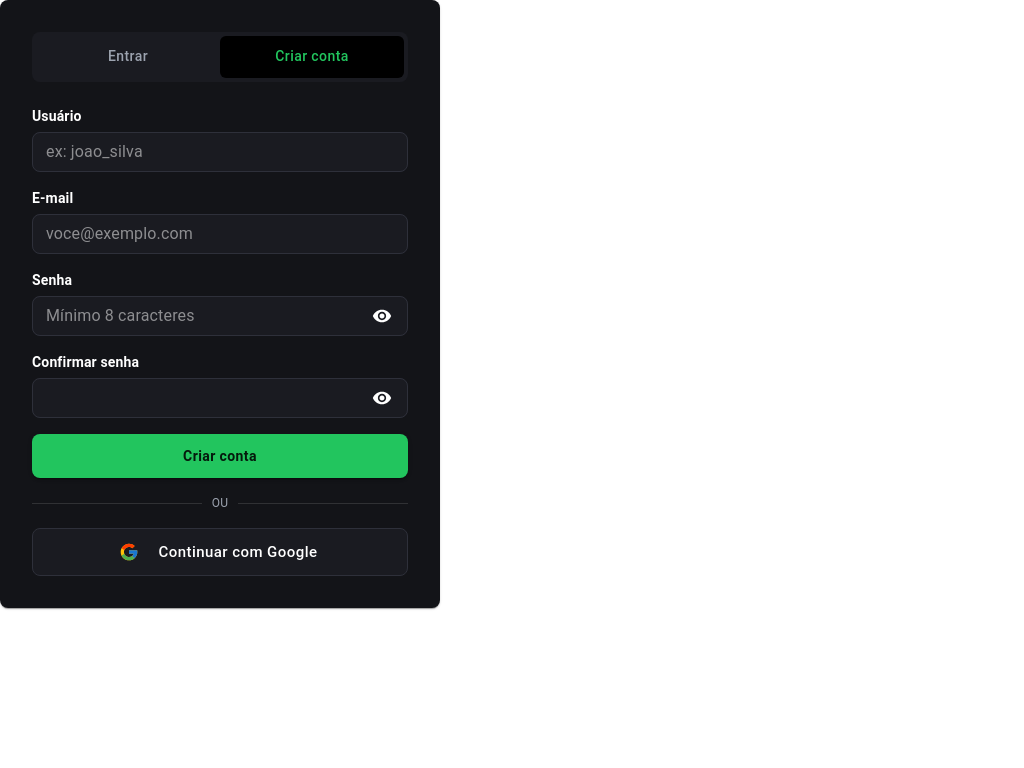
Scenario: shows error modal after failed signup
Type "joao_silva" into the field with placeholder "ex: joao_silva" at (220, 152), box [32,132,408,172]
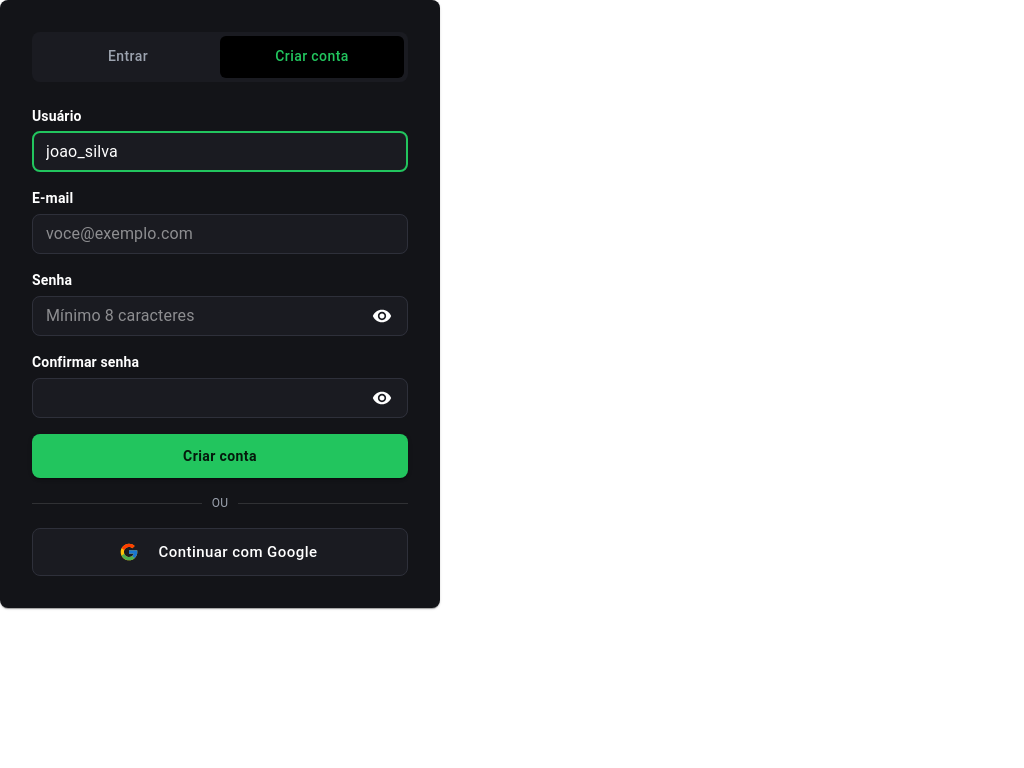
Type "joao@test.com" into the field with placeholder "voce@exemplo.com" at (220, 234), box [32,214,408,254]
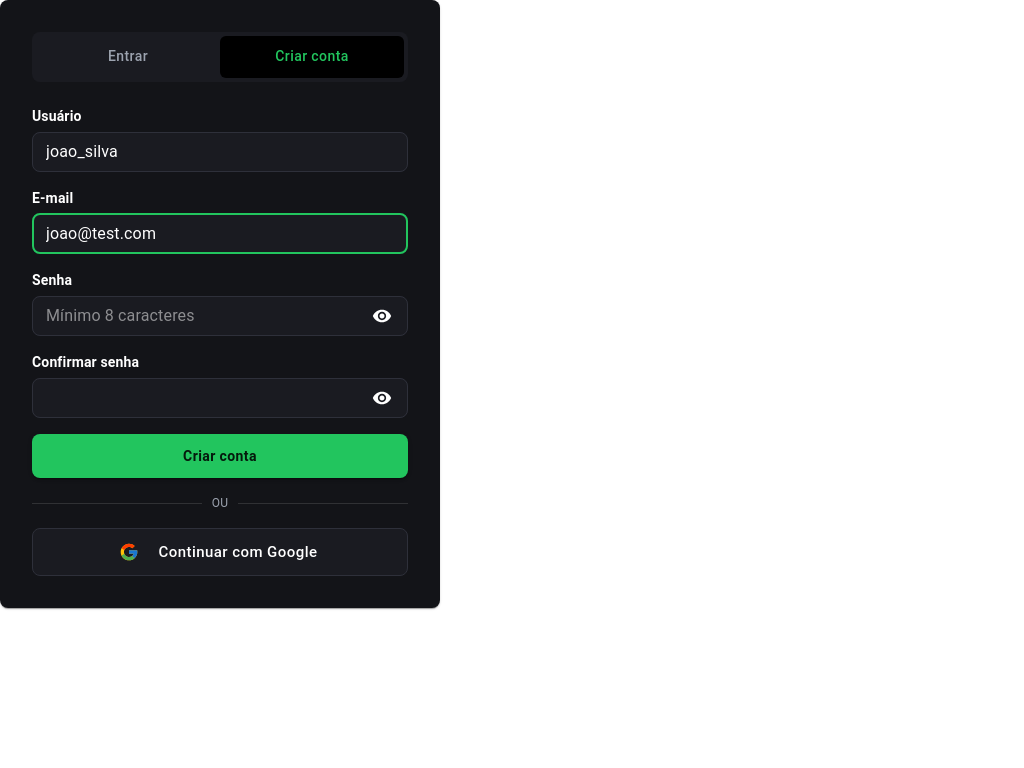
Type "Senha@123" into the password field with placeholder "Mínimo 8 caracteres" at (196, 316), box [32,296,359,336]
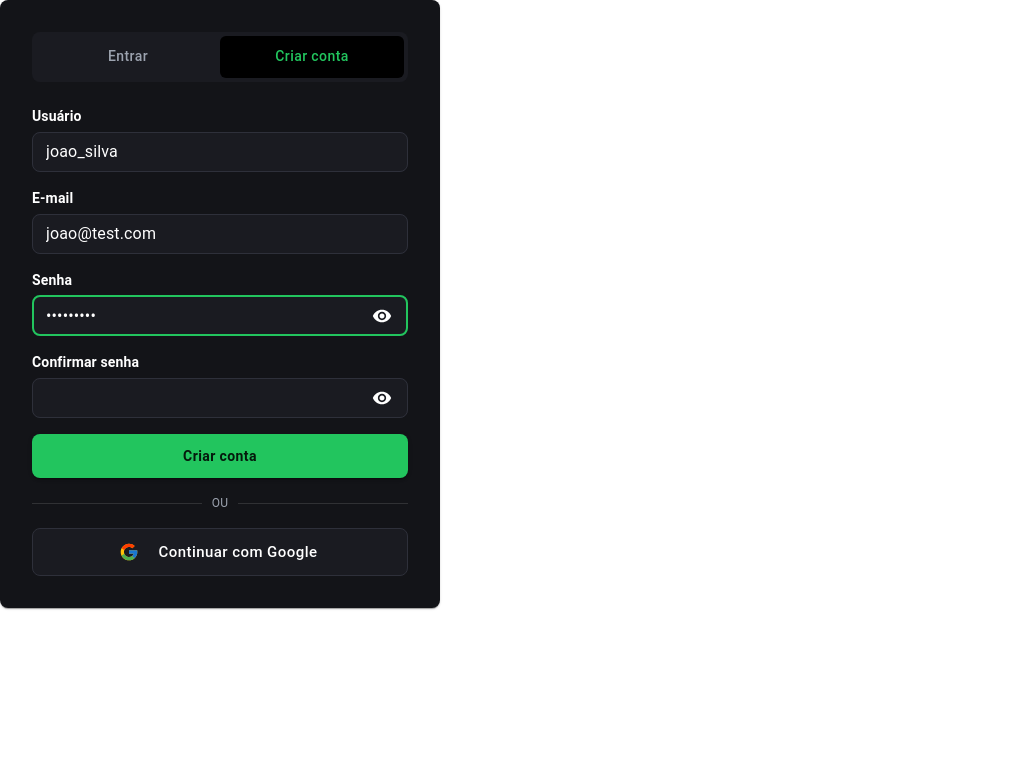
Type "Senha@123" into the password field named "confirmPassword" below "Confirmar senha" at (196, 398), box [32,378,359,418]
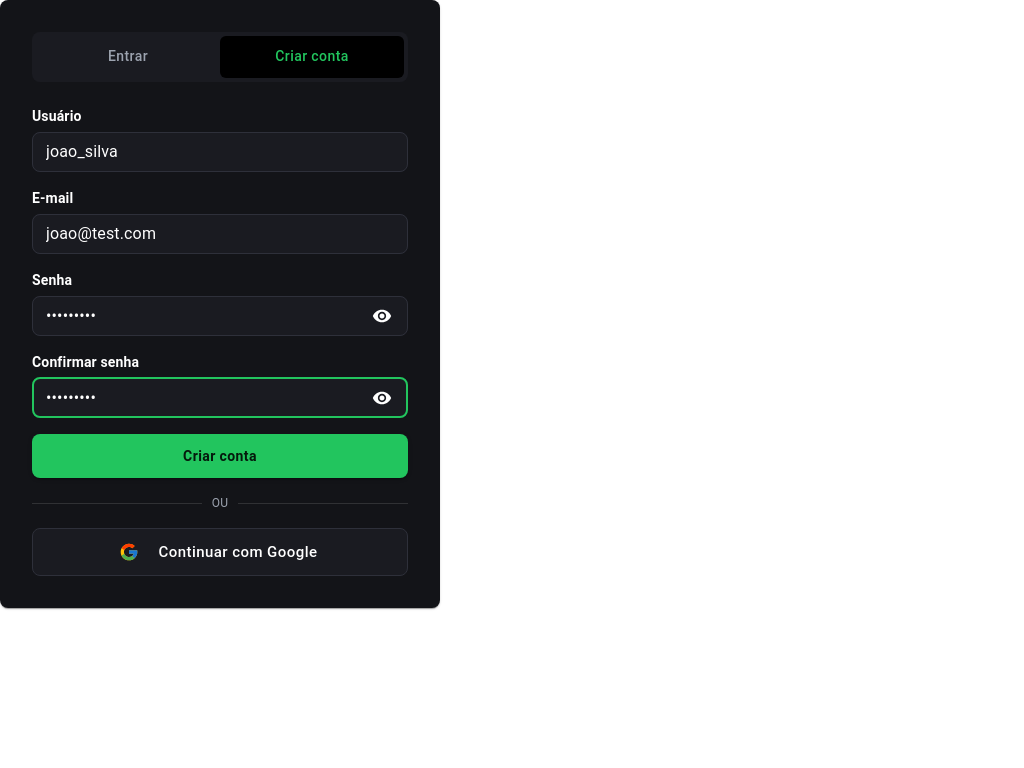
Click the button "Criar conta" at (220, 456), box [32,434,408,478]
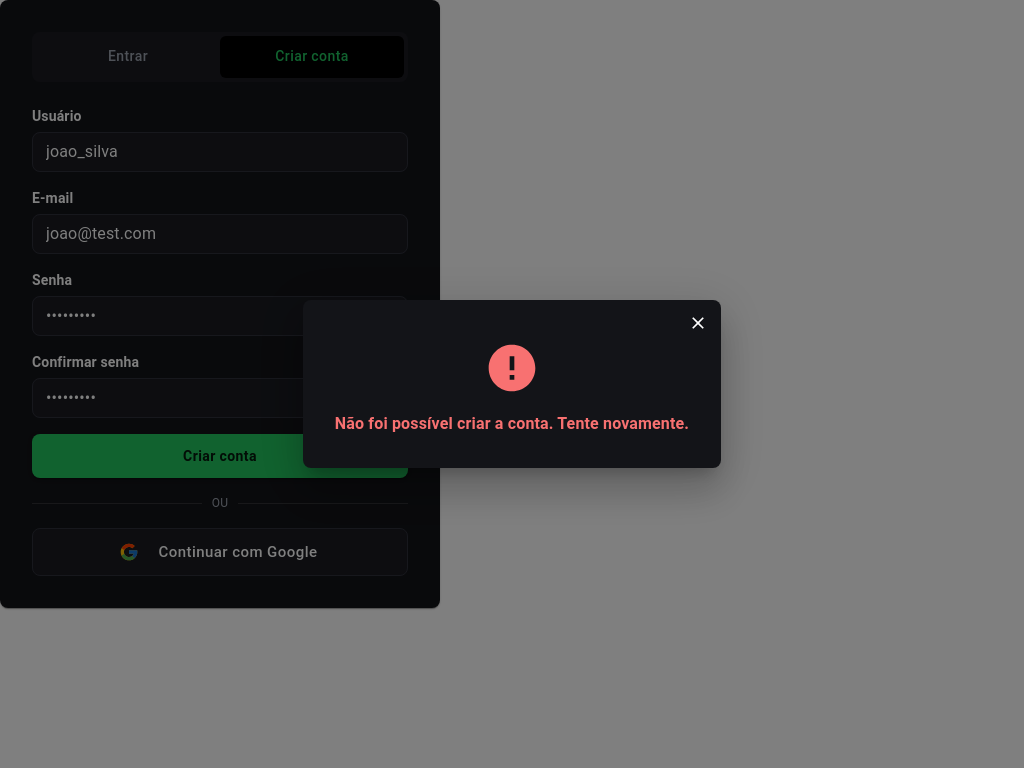
Expected: the text "Não foi possível criar a conta. Tente novamente." is shown, [335,412,689,436]
